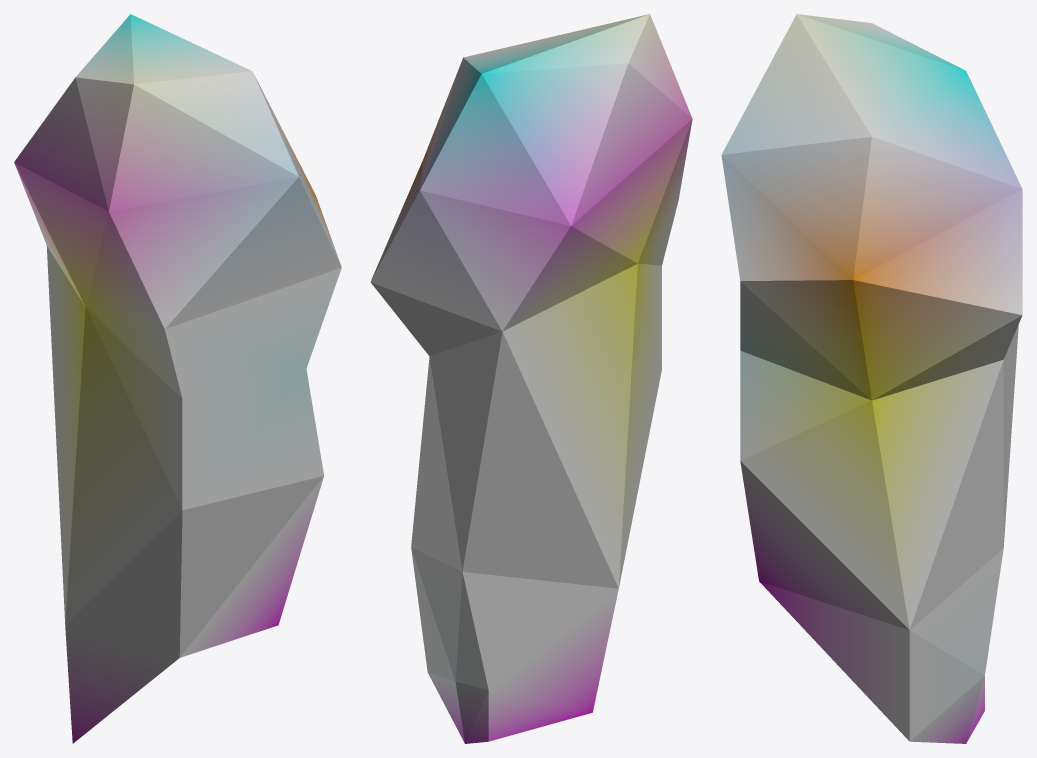
The picture shows the model from 3 angles, left to right: view 1: azimuth 30°, elevation 25°; view 2: azimuth 150°, elevation 25°; view 3: azimuth 270°, elevation 25°; orthographic projection. The views are drawn at different scales.
Parts seen in each view (by area): view 1: model_10FB; view 2: model_10FB; view 3: model_10FB.
Part boxes in pixels (x1,y1,x2,y2): model_10FB: (14,14,341,743); model_10FB: (370,14,692,743); model_10FB: (721,14,1022,743).
Bounding box in the file's own units: 14 × 40 × 16.
